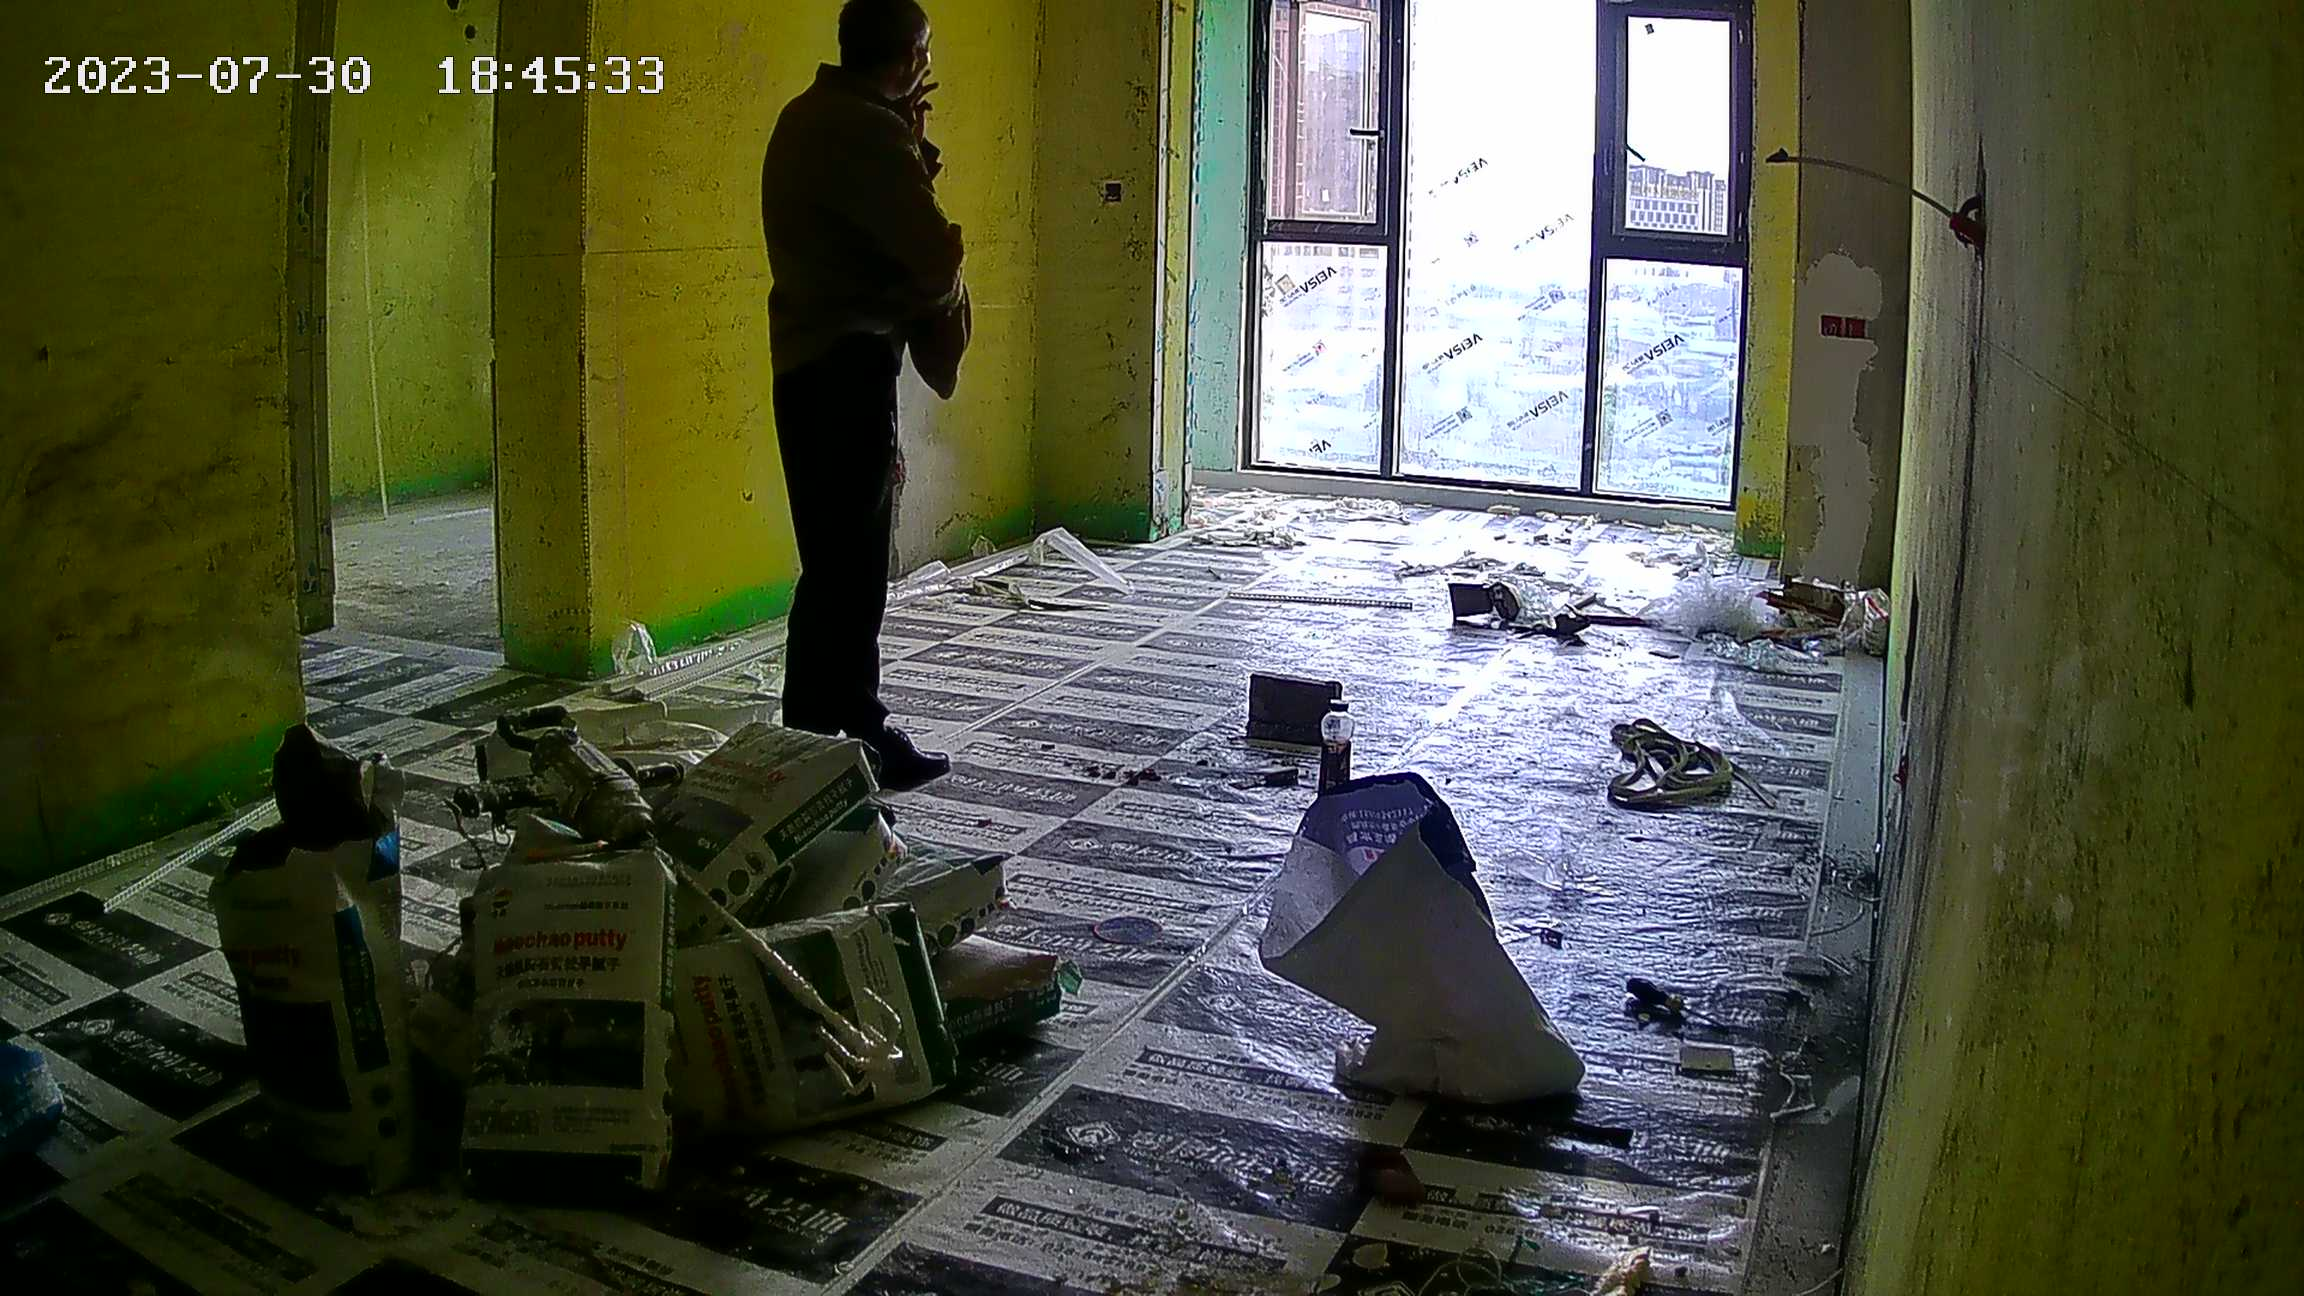people: (780, 1, 981, 791)
window: (1237, 8, 1754, 483)
